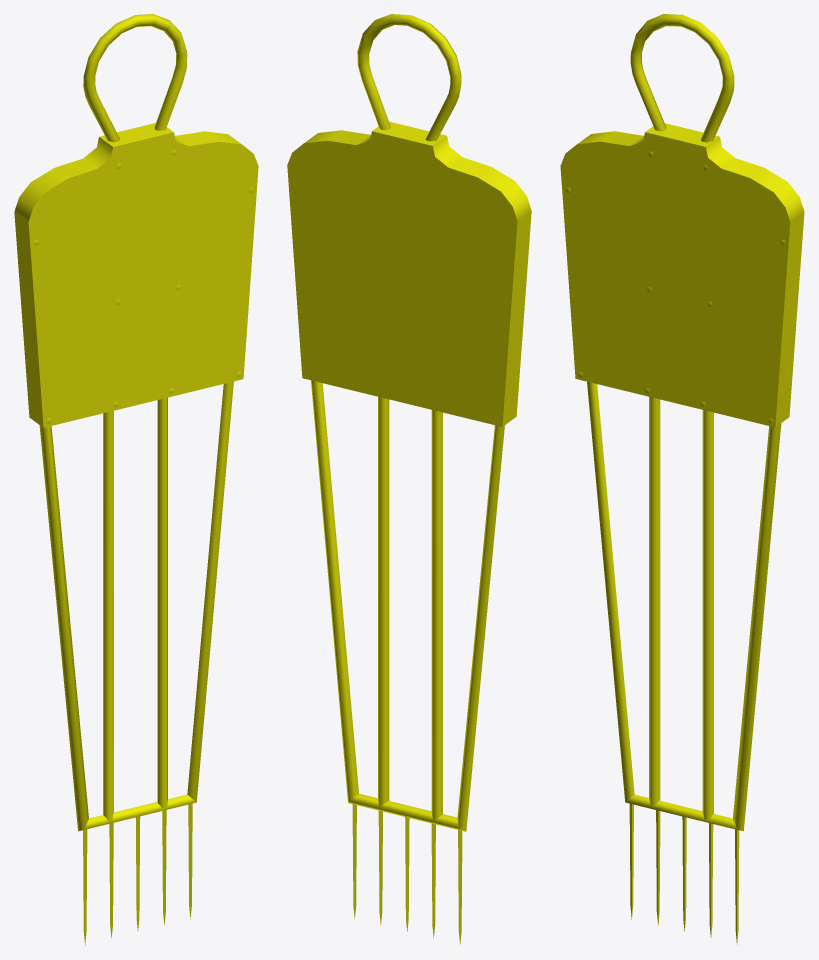
The model's file is L3_dummy_A_v005.fbx.
3 views of the same model, side by side, from view 1: azimuth 30°, elevation 25°; view 2: azimuth 150°, elevation 25°; view 3: azimuth 330°, elevation 25° (orthographic).
Parts seen in each view (by area): view 1: L3_dummy_A_geo; view 2: L3_dummy_A_geo; view 3: L3_dummy_A_geo.
Boxes of the visible parts, x1,y1,x2,y2 form: L3_dummy_A_geo: [14, 14, 258, 945]; L3_dummy_A_geo: [287, 14, 531, 944]; L3_dummy_A_geo: [560, 14, 804, 945].
Bounding box in the file's own units: 54.86 × 209 × 5.92.
